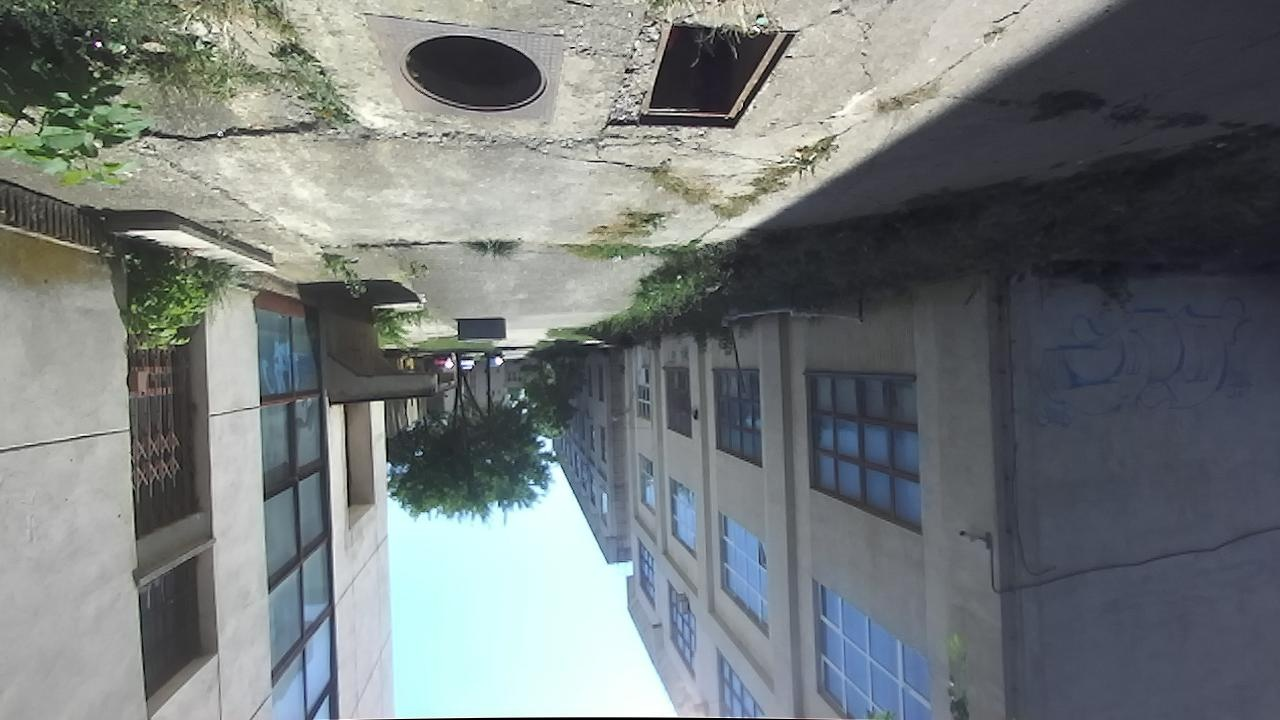drain: (635, 22, 807, 137), (393, 33, 553, 119)
